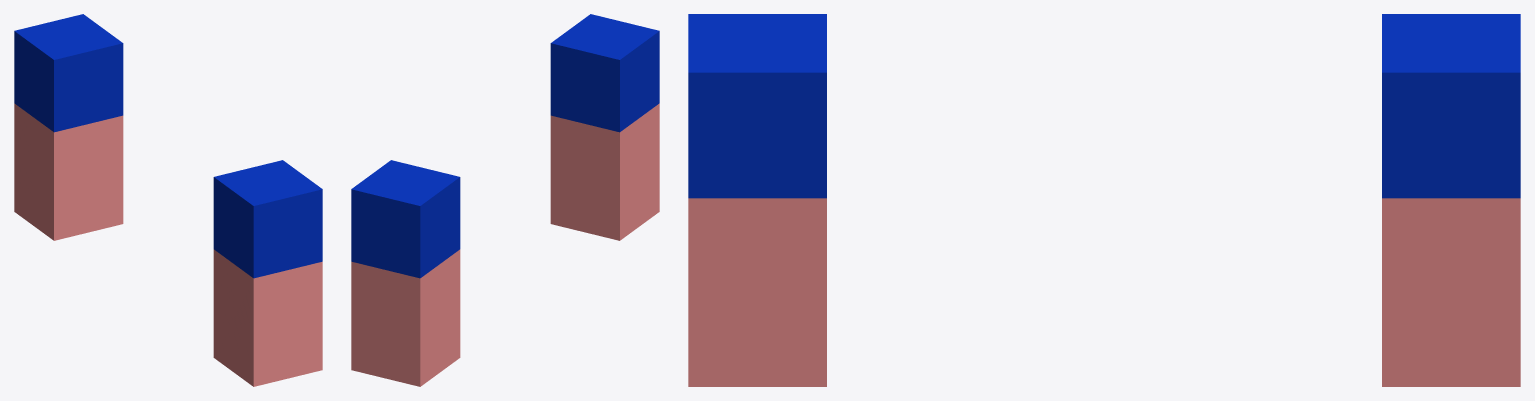
File: perso1-1.obj
3 views of the same model, side by side, from view 1: azimuth 30°, elevation 25°; view 2: azimuth 150°, elevation 25°; view 3: azimuth 270°, elevation 25° (orthographic). The views are drawn at different scales.
Size of the model in its own units: 0.2 by 0.5 by 1.2.
1 material, 1 textured.
